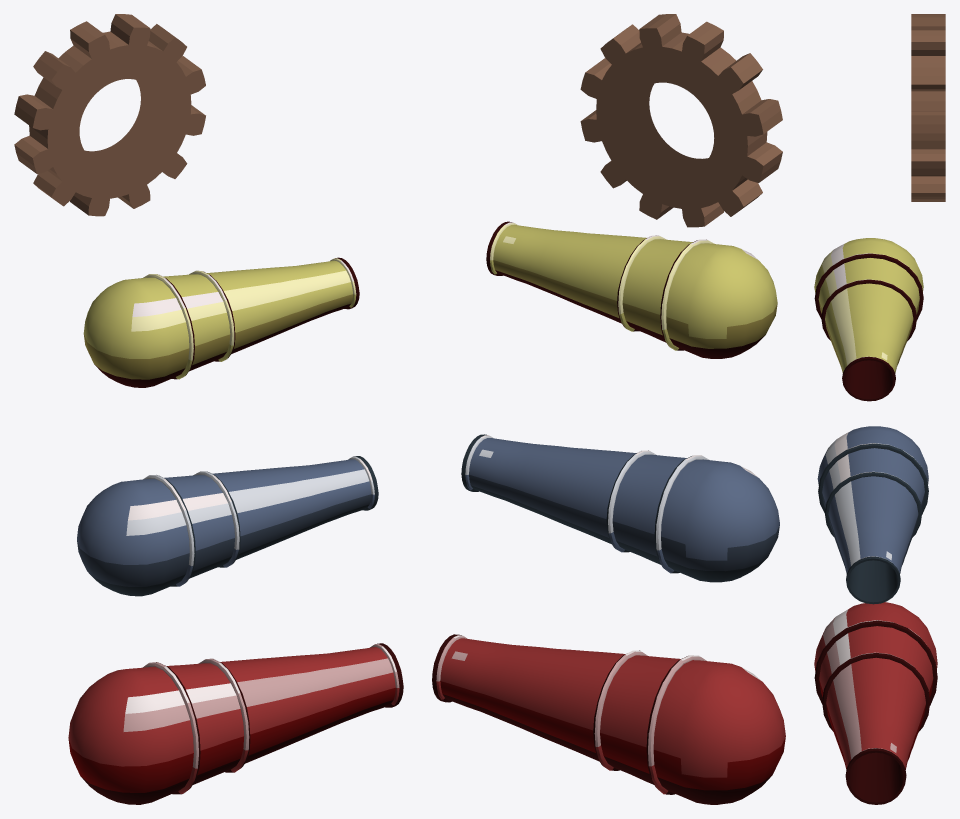
File: turrets_3.fbx
The picture shows the model from 3 angles, left to right: view 1: azimuth 30°, elevation 25°; view 2: azimuth 150°, elevation 25°; view 3: azimuth 270°, elevation 25°; orthographic projection. The views are drawn at different scales.
Visible parts, largest first — view 1: 3, 2, gear, 1; view 2: 3, 2, gear, 1; view 3: 3, 2, 1, gear.
Part boxes in pixels (x1=…): 3: x1=68, y1=643, x2=403, y2=804; 2: x1=77, y1=456, x2=378, y2=596; gear: x1=14, y1=14, x2=205, y2=216; 1: x1=83, y1=257, x2=359, y2=387; 3: x1=432, y1=634, x2=785, y2=804; 2: x1=461, y1=434, x2=779, y2=582; gear: x1=580, y1=14, x2=782, y2=227; 1: x1=486, y1=221, x2=777, y2=358; 3: x1=814, y1=602, x2=937, y2=804; 2: x1=817, y1=426, x2=928, y2=604; 1: x1=814, y1=238, x2=923, y2=401; gear: x1=911, y1=14, x2=945, y2=201.
Bounding box in the file's own units: 25.01 × 53.7 × 9.14.
